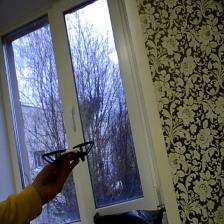drone: (42, 137, 96, 169)
